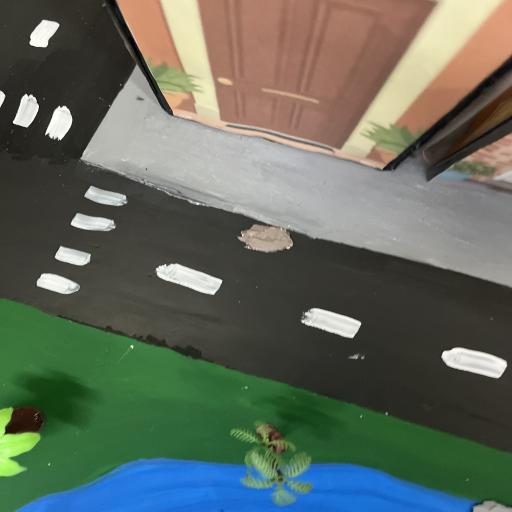porthole: (232, 221, 301, 258)
